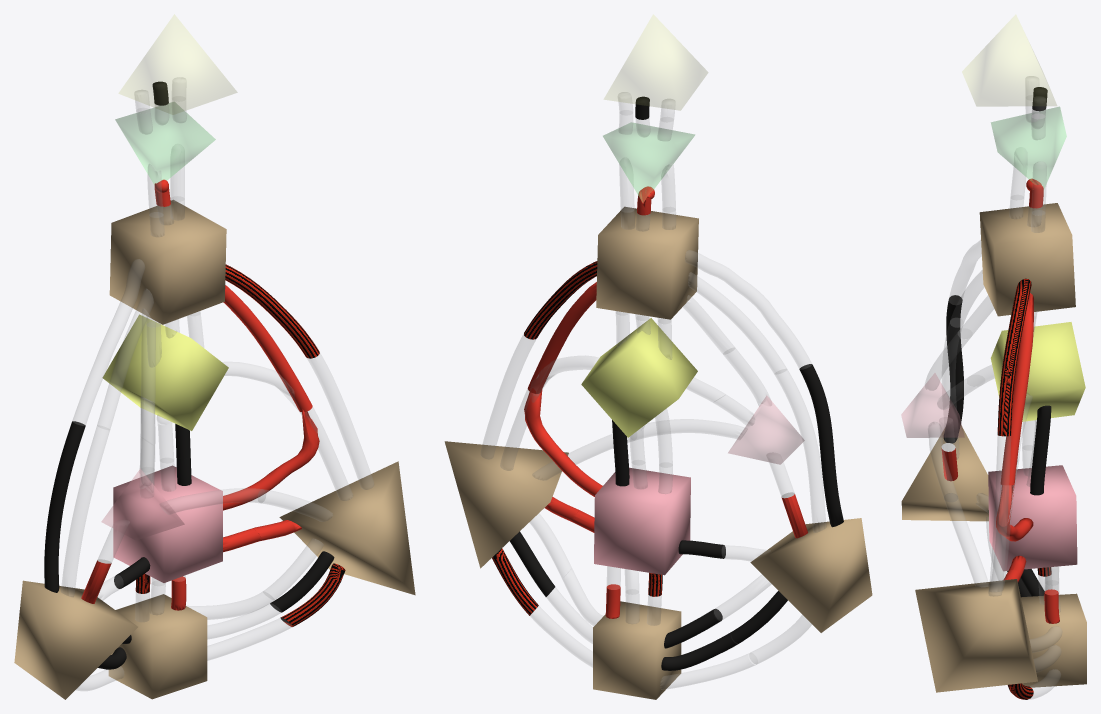
The model's file is hd_bam_win.glb.
3 renders of one model, left to right at view 1: azimuth 30°, elevation 25°; view 2: azimuth 150°, elevation 25°; view 3: azimuth 270°, elevation 25°, orthographic. The views are drawn at different scales.
Visible parts, largest first — view 1: p.0034, p.0027, p.0029, p.0028, p.0032, p.0026, p.0036, p.0035, p.0031, s.0050, s.010, s.0052 (+20 smaller); view 2: p.0034, p.0029, p.0027, p.0028, p.0032, p.0026, p.0036, p.0035, p.0031, s.0050, s.0052, s.010 (+26 smaller); view 3: p.0029, p.0034, p.0027, p.0028, p.0032, p.0036, p.0026, p.0035, p.0031, s.013, s.012, s.0049 (+29 smaller).
Part boxes in pixels (bbox=[...]): p.0034: bbox=[109, 200, 226, 324]; p.0027: bbox=[113, 465, 222, 582]; p.0029: bbox=[279, 461, 415, 595]; p.0028: bbox=[14, 580, 137, 699]; p.0032: bbox=[102, 314, 228, 430]; p.0026: bbox=[108, 594, 207, 699]; p.0036: bbox=[119, 14, 237, 114]; p.0035: bbox=[115, 102, 215, 184]; p.0031: bbox=[101, 468, 184, 540]; s.0050: bbox=[44, 421, 85, 592]; s.010: bbox=[72, 259, 144, 425]; s.0052: bbox=[61, 426, 109, 596]; p.0034: bbox=[596, 206, 698, 319]; p.0029: bbox=[444, 441, 568, 568]; p.0027: bbox=[594, 467, 690, 575]; p.0028: bbox=[750, 518, 872, 632]; p.0032: bbox=[581, 318, 697, 437]; p.0026: bbox=[593, 601, 681, 699]; p.0036: bbox=[604, 15, 707, 110]; p.0035: bbox=[603, 122, 694, 202]; p.0031: bbox=[728, 395, 804, 464]; s.0050: bbox=[799, 364, 843, 527]; s.0052: bbox=[775, 369, 826, 532]; s.010: bbox=[685, 250, 811, 369]; p.0029: bbox=[915, 579, 1037, 692]; p.0034: bbox=[979, 203, 1075, 316]; p.0027: bbox=[988, 465, 1077, 571]; p.0028: bbox=[901, 425, 988, 521]; p.0032: bbox=[990, 322, 1085, 421]; p.0036: bbox=[962, 15, 1056, 106]; p.0026: bbox=[1021, 593, 1086, 687]; p.0035: bbox=[991, 106, 1066, 188]; p.0031: bbox=[901, 373, 964, 437]; s.013: bbox=[1000, 293, 1034, 485]; s.012: bbox=[997, 278, 1031, 436]; s.0049: bbox=[988, 436, 1010, 596].
Bounding box in the file's own units: 4.45 × 7.15 × 1.83.
10 materials, 5 textured.
